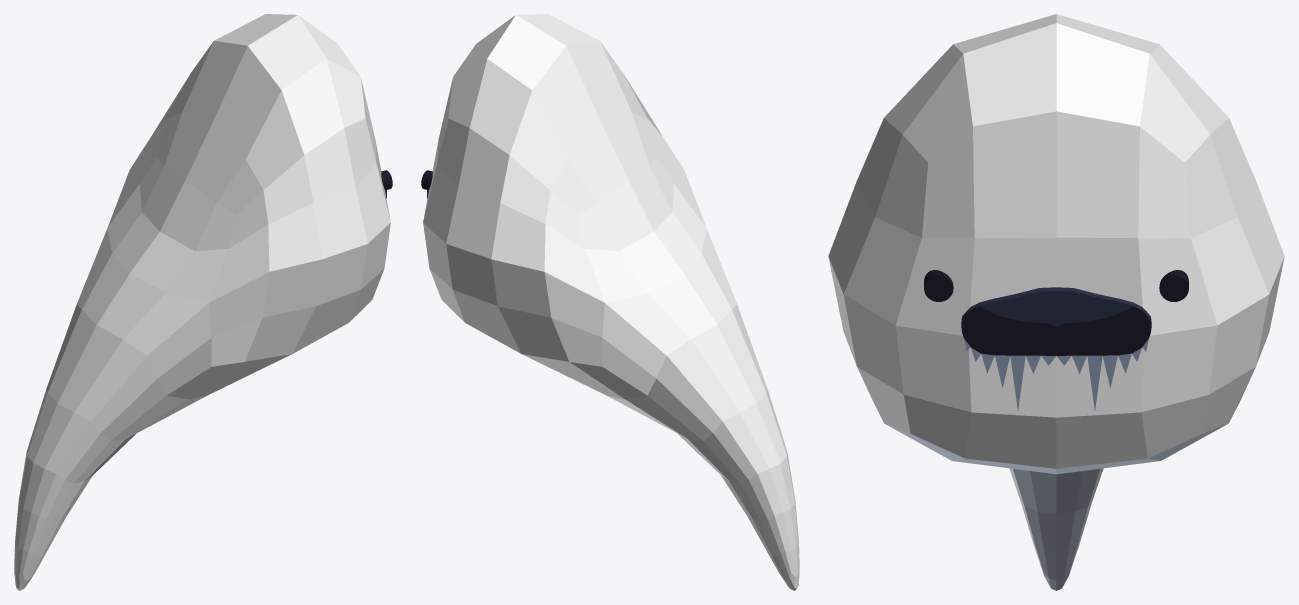
The model's file is SmolGhosty.fbx.
3 views of the same model, side by side, from view 1: azimuth 30°, elevation 25°; view 2: azimuth 150°, elevation 25°; view 3: azimuth 270°, elevation 25° (orthographic). The views are drawn at different scales.
Visible parts, largest first — view 1: Cube; view 2: Cube; view 3: Cube.
Part boxes in pixels (x1,y1,x2,y2): Cube: (14,14,392,590); Cube: (421,14,799,590); Cube: (828,14,1284,590).
Size of the model in its own units: 263 by 376 by 201.
